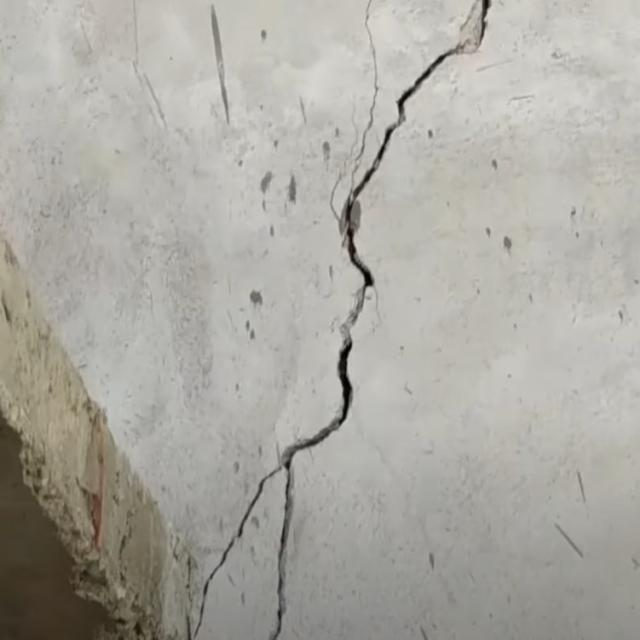Wall_Cracks: (147, 1, 516, 640)
